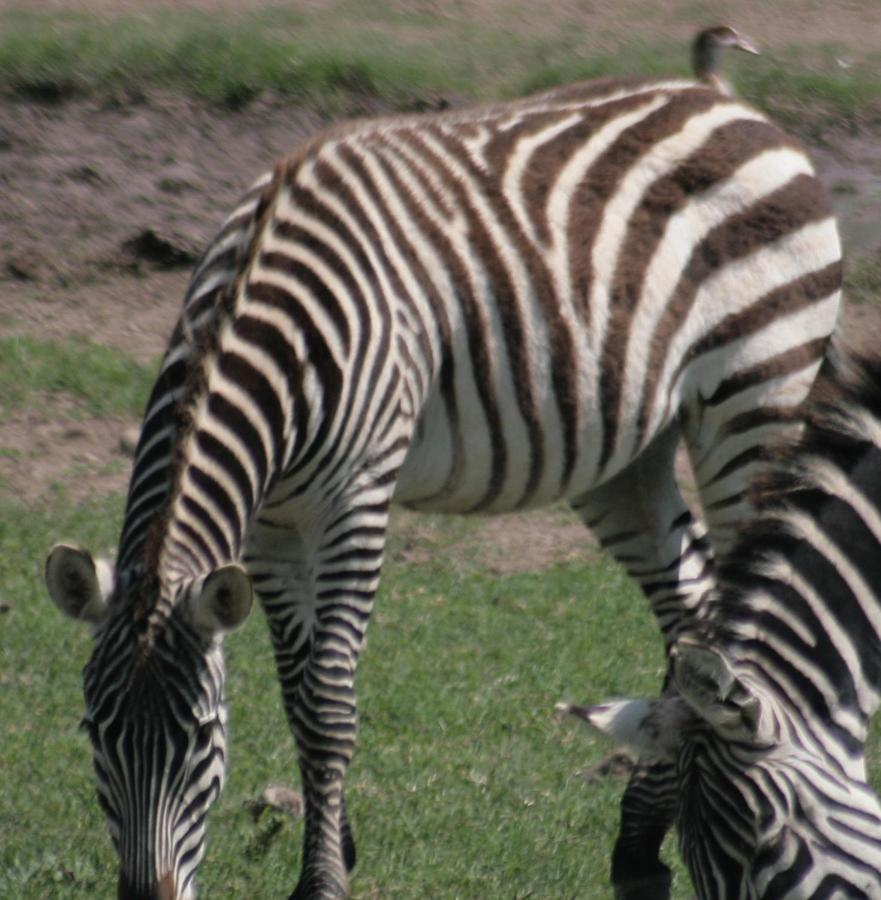zebra_plains: (213, 112, 870, 475)
